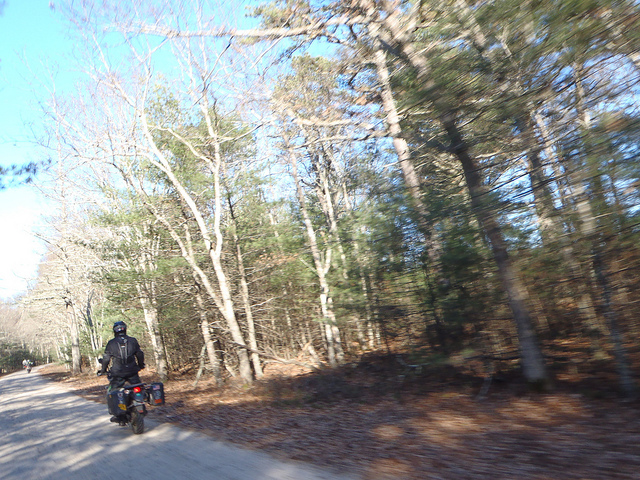Bike: (102, 325, 157, 424)
